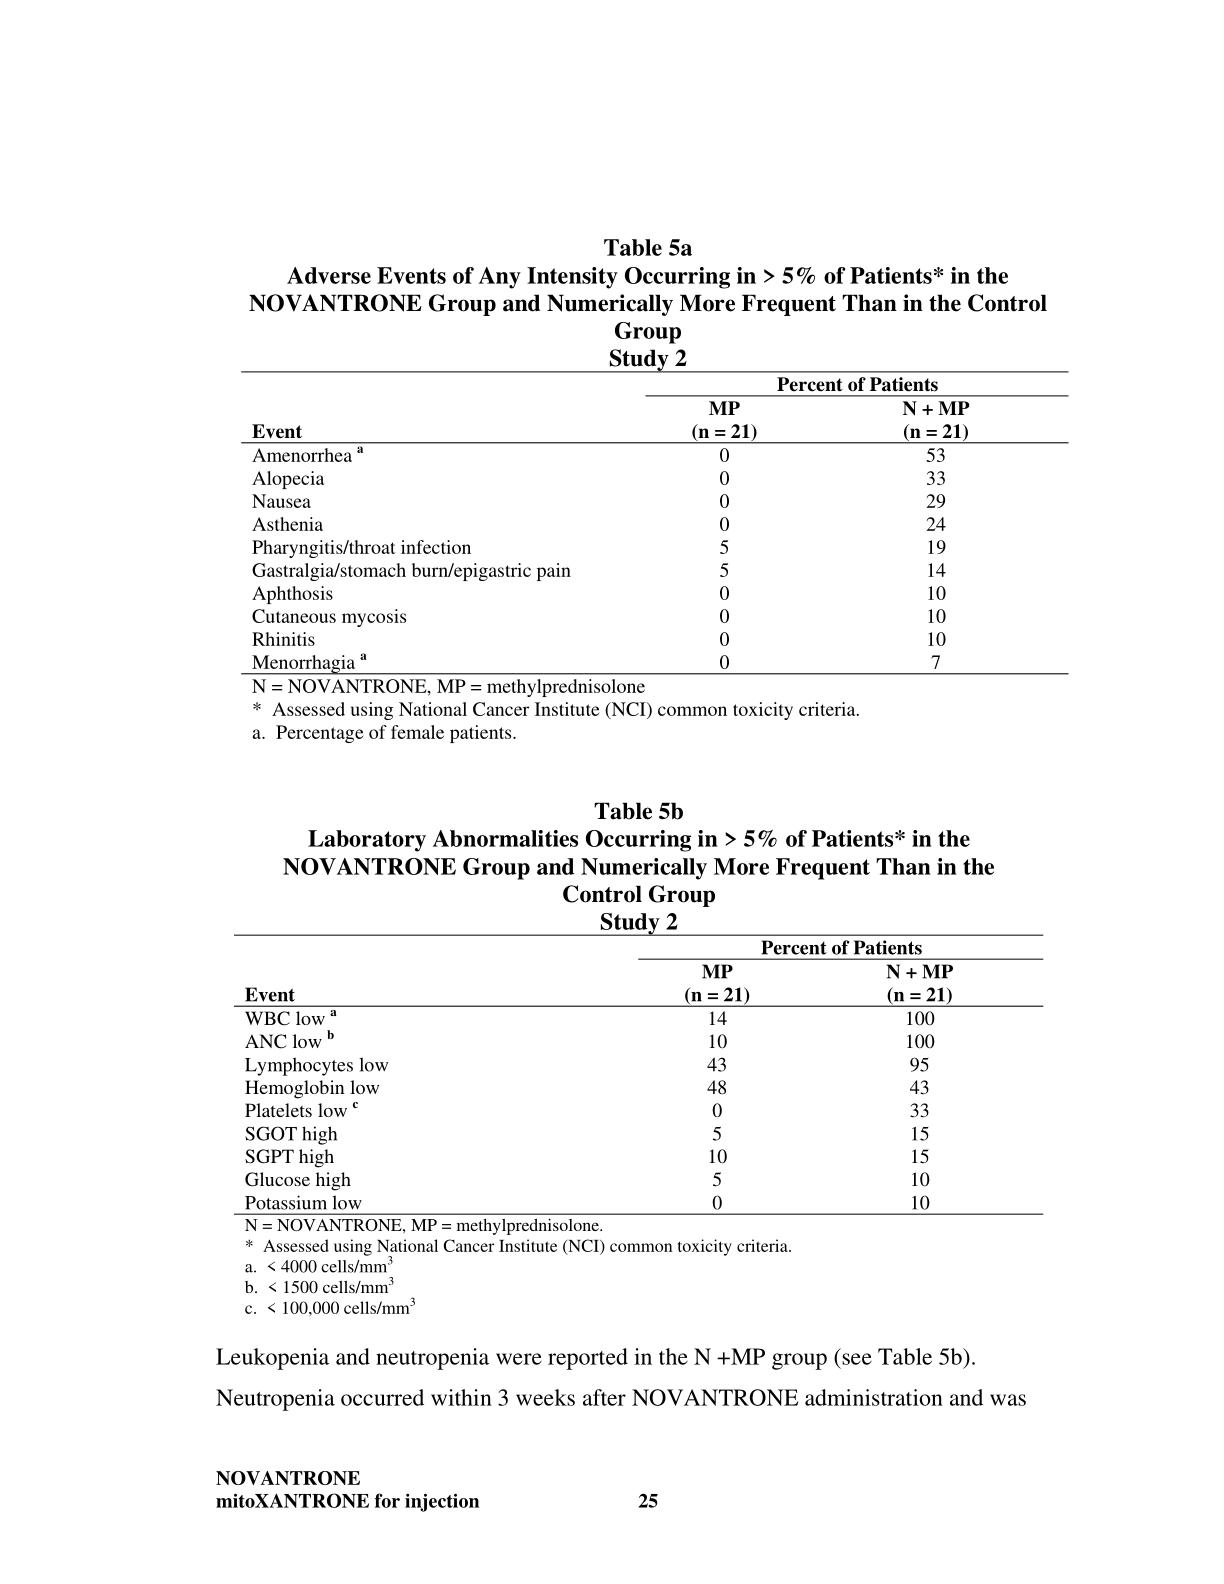partial_lined_merged_cells: (238, 366, 1071, 678), (231, 932, 1047, 1218)
